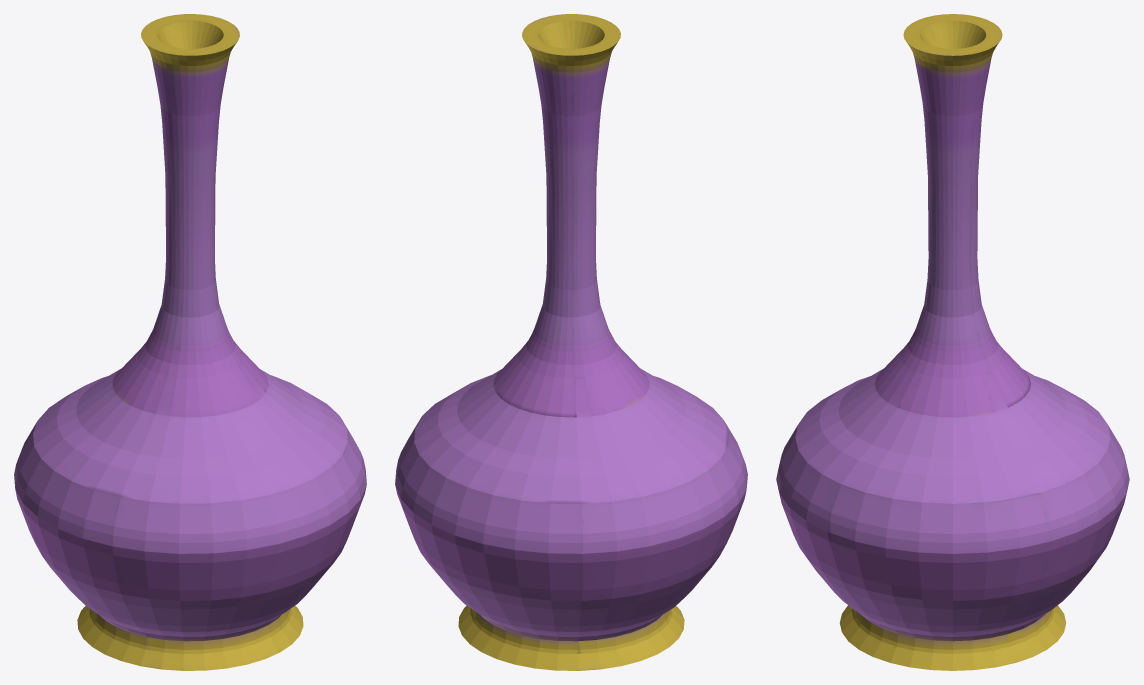
The model's file is vasecprsd.glb.
3 views of the same model, side by side, from view 1: azimuth 30°, elevation 25°; view 2: azimuth 150°, elevation 25°; view 3: azimuth 270°, elevation 25° (orthographic).
Visible parts, largest first — view 1: Cylinder001; view 2: Cylinder001; view 3: Cylinder001.
Part boxes in pixels (bbox=[...]): Cylinder001: bbox=[14, 14, 366, 670]; Cylinder001: bbox=[395, 14, 747, 670]; Cylinder001: bbox=[776, 14, 1129, 670].
Bounding box in the file's own units: 2.4 × 4.41 × 2.4.
Materials: 1 (1 with a texture image).
